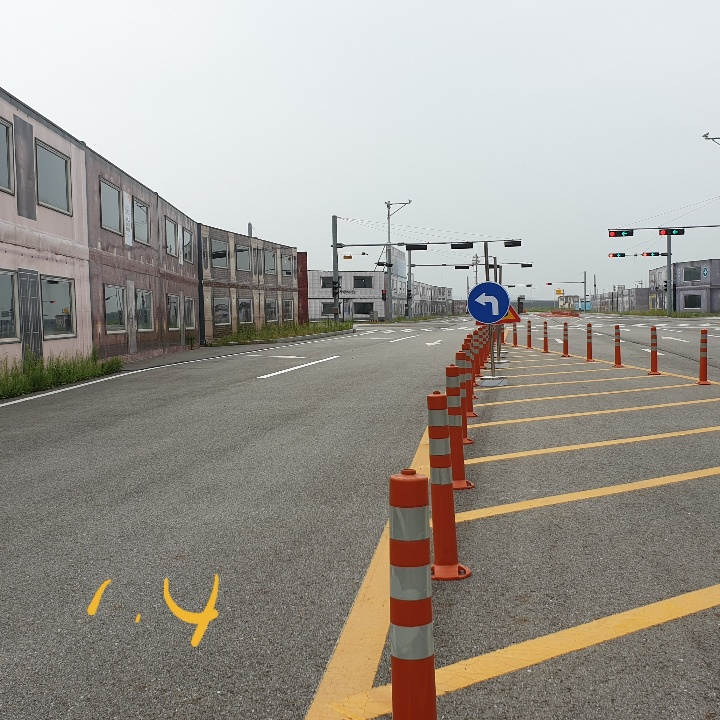left: (473, 286, 504, 319)
